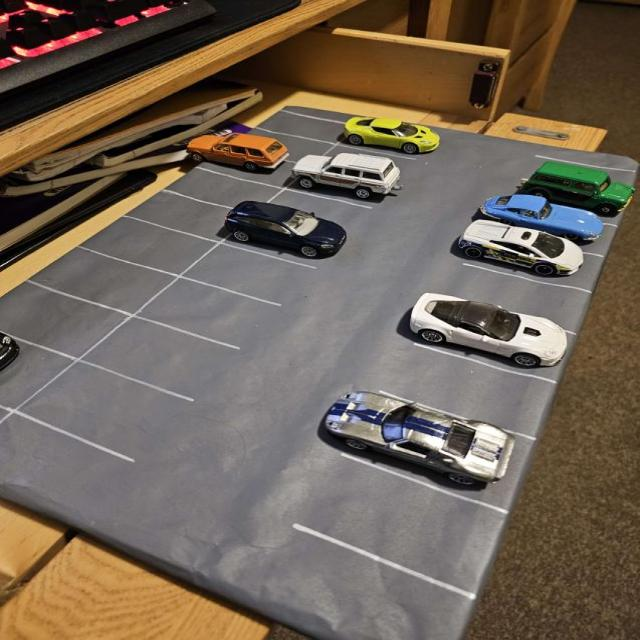Empty: (292, 454, 517, 603), (12, 356, 195, 457), (383, 345, 558, 440), (75, 312, 244, 403), (127, 275, 286, 352), (0, 277, 136, 363), (25, 245, 183, 319), (426, 265, 589, 333), (172, 241, 320, 308), (74, 215, 219, 280), (162, 167, 288, 213), (123, 190, 232, 239), (263, 188, 375, 227), (258, 110, 344, 142)
Taken: (336, 390, 538, 516), (410, 293, 575, 382), (463, 222, 603, 296), (471, 194, 619, 258), (214, 211, 349, 269), (280, 158, 404, 208), (0, 332, 78, 408), (520, 176, 629, 228), (197, 142, 308, 190), (328, 121, 445, 159)
